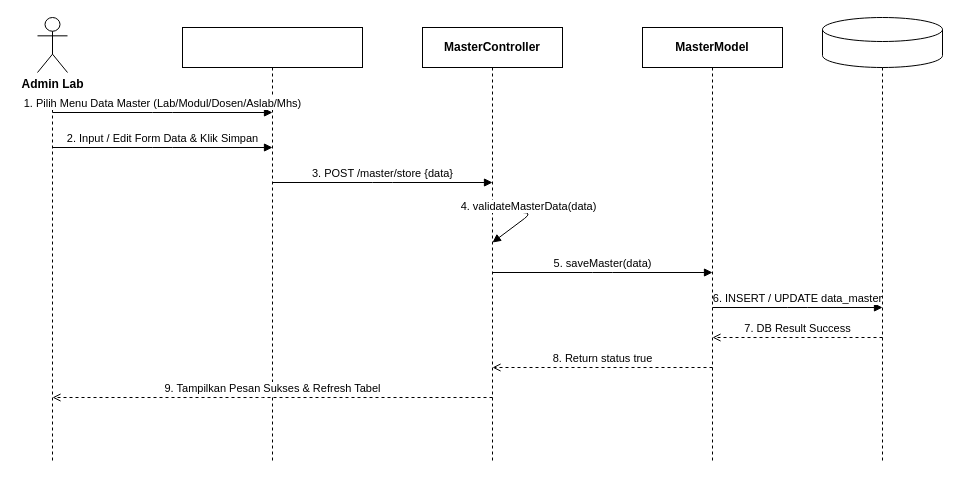
Some shapes in this 960 by 481 pixel diagram are drawn without their labels. The shapes that lost their labels are listed below. From the top down, each one's centre as x and y in pixels, then its label:
the point at 272,47: View (master_praktikum.php)
the point at 882,42: Database MySQL
